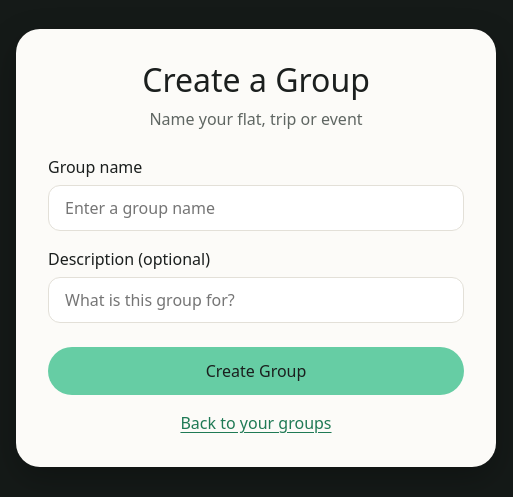
Test case: CreateGroup › shows an inline error when the description is too long
The image size is (513, 497).
Type "Flat 3" into the field labelled "Group name" at (256, 208), box top-left (48, 185), bottom-right (464, 231)
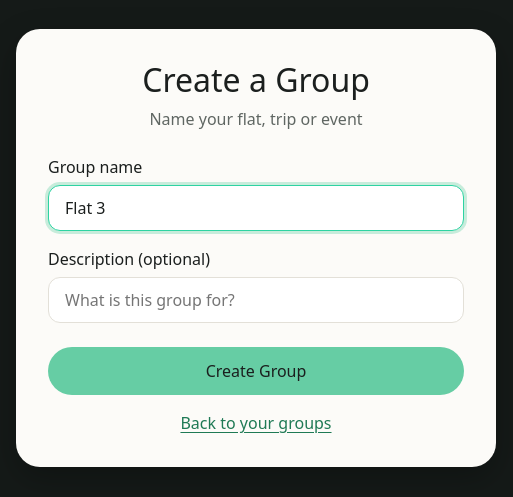
Click the button "Create Group" at (256, 371), box top-left (48, 347), bottom-right (464, 395)
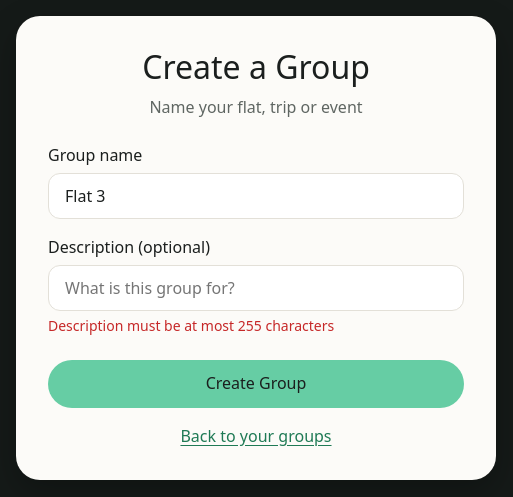
Expected: the text "Description must be at most 255 characters" is shown, top-left (48, 316), bottom-right (334, 335)
